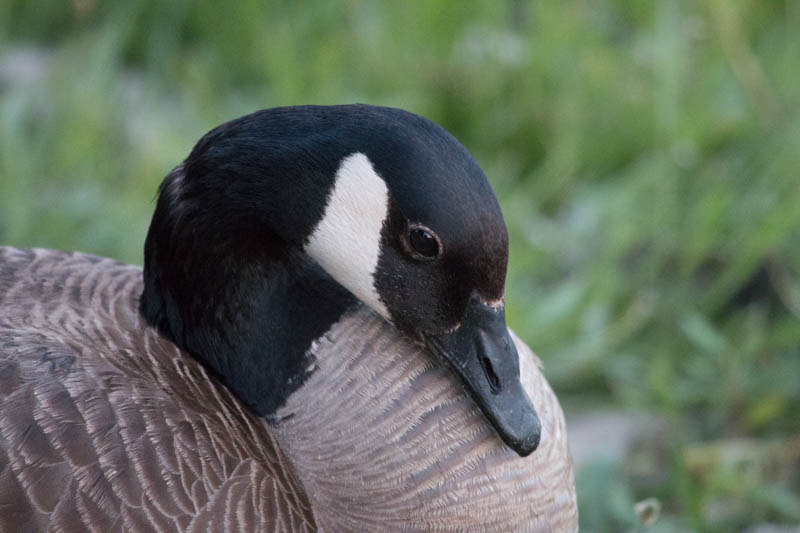goose-head: (267, 103, 542, 458)
